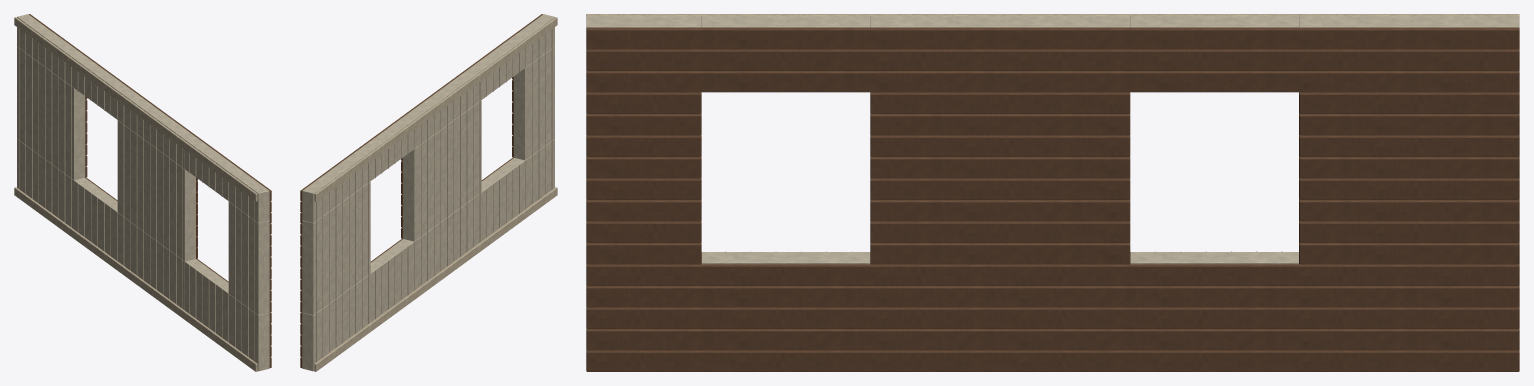
The model's file is cabin_wall_right.glb.
3 renders of one model, left to right at view 1: azimuth 30°, elevation 25°; view 2: azimuth 150°, elevation 25°; view 3: azimuth 270°, elevation 25°, orthographic. The views are drawn at different scales.
Visible parts, largest first — view 1: Wall_with_openings.003; view 2: Wall_with_openings.003; view 3: Wall_with_openings.003.
Part boxes in pixels (x1,y1,x2,y2): Wall_with_openings.003: [14, 14, 271, 371]; Wall_with_openings.003: [300, 14, 557, 371]; Wall_with_openings.003: [586, 14, 1519, 371].
Bounding box in the file's own units: 0.256 × 2.7 × 6.64.
3 materials, 3 textured.
